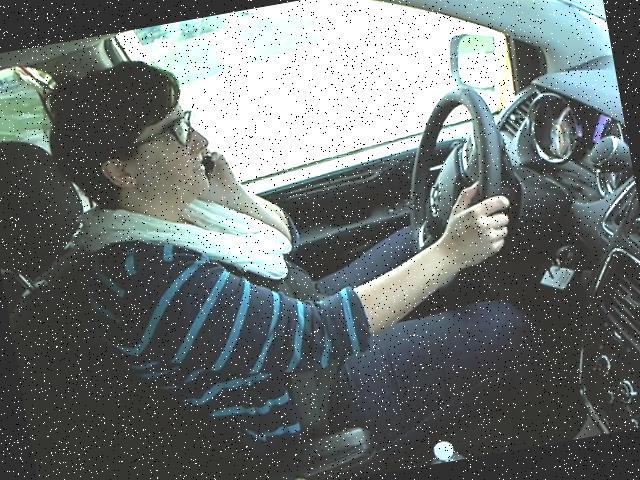c2 - Talking on the phone: (30, 0, 557, 409)
